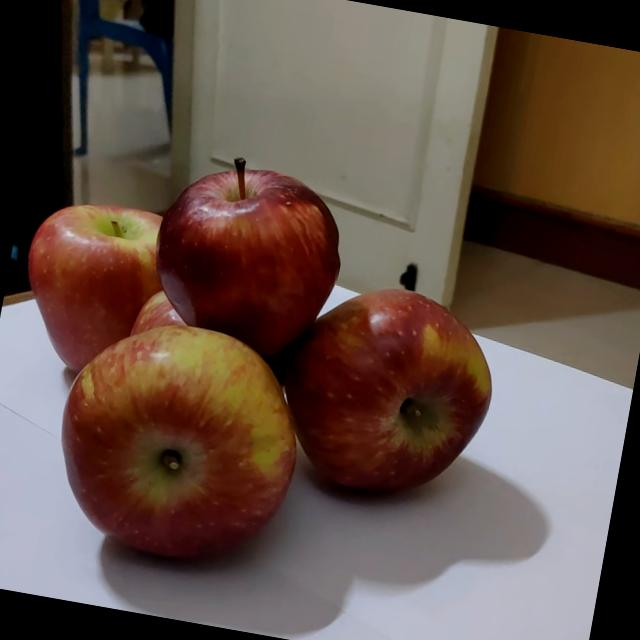apple: (31, 298, 316, 580), (257, 264, 512, 521), (126, 141, 360, 362), (12, 186, 181, 384)
